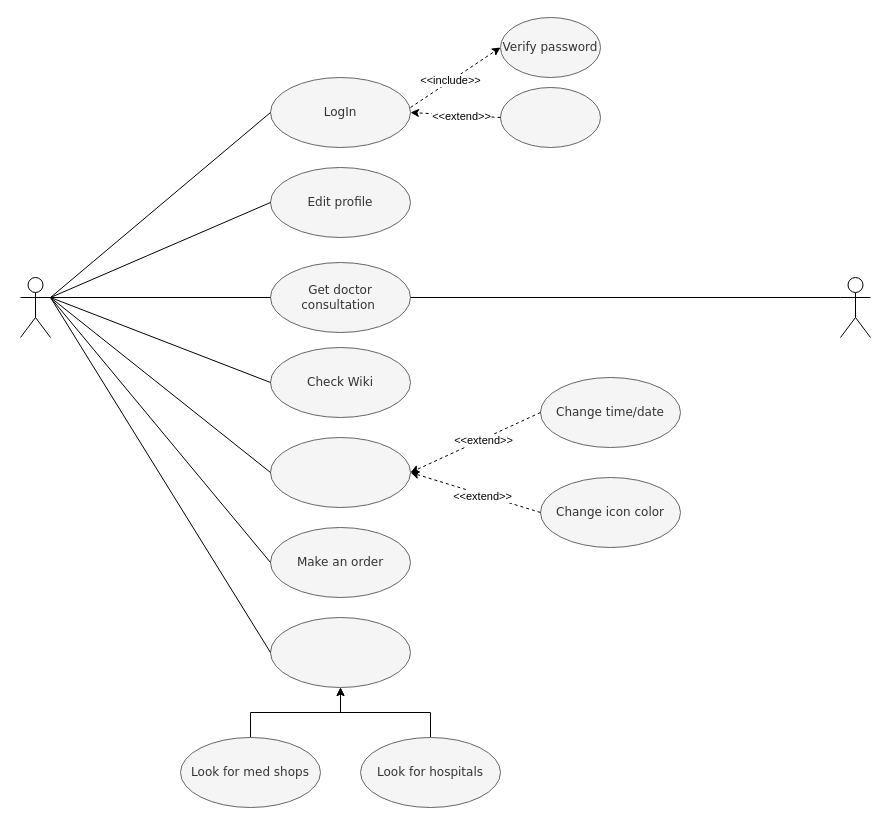
Some shapes in this 890 by 825 pixel diagram are drawn without their labels. Here are the shapes that lost their labels. From the top down, the box of each, then its label:
(500, 86, 600, 148): Display Login Error
(20, 276, 50, 338): Patient
(840, 276, 870, 338): Doctor
(270, 436, 410, 508): Make an appt to take meds
(270, 616, 410, 688): Check Map
